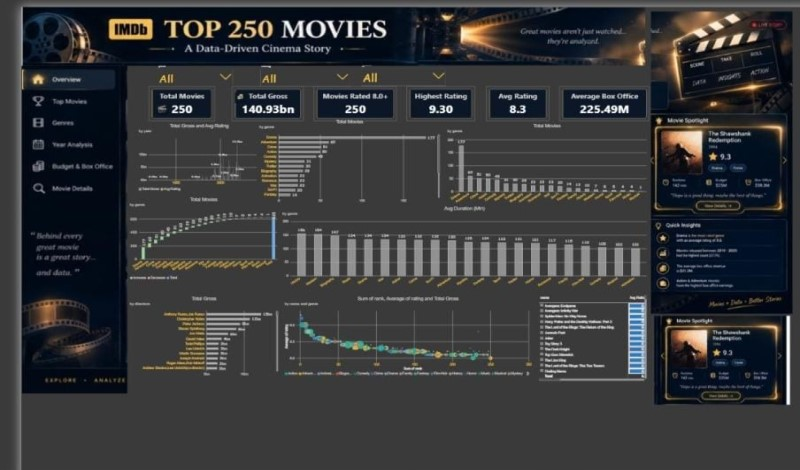

What the dashboard file says about the page in this screenshot:
{"tool":"powerbi","page":{"name":"Cinema Overview","canvas":[3100,3000],"ordinal":0},"visuals":[{"type":"cardVisual","fields":{"Data":["IMDB Top 250 Movies.Total Movies"]},"box":[503,347.9,309.8,151.2],"z":0},{"type":"cardVisual","fields":{"Data":["IMDB Top 250 Movies.Total Gross"]},"box":[843.7,349.5,334.1,151.2],"z":1000},{"type":"cardVisual","fields":{"Data":["IMDB Top 250 Movies.Avg Rating"]},"box":[1890,349.5,297.6,151.2],"z":2000},{"type":"cardVisual","fields":{"Data":["IMDB Top 250 Movies.% High Rated"]},"box":[1563.2,349.5,319.5,151.2],"z":3000},{"type":"clusteredColumnChart","fields":{"Category":["IMDB Top 250 Movies.year"],"Y":["IMDB Top 250 Movies.Total Gross","IMDB Top 250 Movies.Avg Rating"]},"box":[482.7,513.8,497.6,302.4],"z":4000},{"type":"clusteredBarChart","fields":{"Category":["IMDB Top 250 Movies.directors"],"Y":["IMDB Top 250 Movies.Total Gross"]},"box":[443.7,1272.3,609.8,356.1],"z":5000},{"type":"waterfallChart","fields":{"Category":["IMDB Top 250 Movies.genre"],"Y":["IMDB Top 250 Movies.Total Movies"]},"box":[443.7,838.1,607.3,370.7],"z":6000},{"type":"slicer","fields":{"Values":["IMDB Top 250 Movies.year"]},"box":[552.6,251.3,319.2,92.3],"z":7000},{"type":"slicer","fields":{"Values":["IMDB Top 250 Movies.genre"]},"box":[1391,247.4,357.7,107.7],"z":8000},{"type":"slicer","fields":{"Values":["IMDB Top 250 Movies.rating"]},"box":[975.6,251.3,376.9,107.7],"z":9000},{"type":"actionButton","box":[2309.8,109.8,143.9,122],"z":10000},{"type":"clusteredColumnChart","fields":{"Category":["IMDB Top 250 Movies.genre"],"Y":["IMDB Top 250 Movies.Total Movies"]},"box":[1750,511.5,819.2,365.4],"z":11000},{"type":"cardVisual","fields":{"Data":["IMDB Top 250 Movies.High Rated Movies"]},"box":[1182.7,349.5,380.5,151.2],"z":12000},{"type":"cardVisual","fields":{"Data":["IMDB Top 250 Movies.Average Box Office"]},"box":[2192.4,349.5,409.8,151.2],"z":13000},{"type":"clusteredBarChart","fields":{"Category":["IMDB Top 250 Movies.genre"],"Y":["IMDB Top 250 Movies.Total Movies"]},"box":[979.5,497.4,742.3,369.2],"z":14000},{"type":"image","box":[1629.3,0,936.6,258.5],"z":15000},{"type":"image","box":[0,0,1629.3,258.5],"z":16000},{"type":"image","box":[553.4,431.6,51.2,41.5],"z":17000},{"type":"image","box":[879.4,374.7,43.9,51.2],"z":18000},{"type":"image","box":[0,257.7,438.5,1442.3],"z":19000},{"type":"clusteredColumnChart","fields":{"Category":["IMDB Top 250 Movies.genre"],"Y":["IMDB Top 250 Movies.Avg Duration (Min)"]},"box":[1073.1,876.9,1496.2,373.1],"z":20000},{"type":"scatterChart","fields":{"Category":["IMDB Top 250 Movies.name"],"Series":["IMDB Top 250 Movies.genre"],"Size":["IMDB Top 250 Movies.Total Gross"],"X":["Sum(IMDB Top 250 Movies.rank)"],"Y":["Avg(IMDB Top 250 Movies.rating)"]},"box":[1080.2,1272.3,1014.6,356.1],"z":21000},{"type":"pivotTable","fields":{"Rows":["IMDB Top 250 Movies.name","IMDB Top 250 Movies.directors","IMDB Top 250 Movies.year"],"Values":["IMDB Top 250 Movies.Avg Rating","IMDB Top 250 Movies.Total Gross","IMDB Top 250 Movies.Avg Duration (Min)"]},"box":[2126.9,1269.2,442.3,376.9],"z":22000},{"type":"image","box":[2569.2,0,623.1,1357.7],"z":23000},{"type":"image","box":[2569.2,1357.7,623.1,392.3],"z":24000}]}

Visuals, with their boxes on the page's 3100x3000 design canvas (x1, y1, x2, y2). These are canvas units, not pixel positions in the 800x470 screenshot, which may show the page scaled, cropped or inside an application window:
cardVisual - IMDB Top 250 Movies.Total Movies: l=503, t=348, r=813, b=499
cardVisual - IMDB Top 250 Movies.Total Gross: l=844, t=350, r=1178, b=501
cardVisual - IMDB Top 250 Movies.Avg Rating: l=1890, t=350, r=2188, b=501
cardVisual - IMDB Top 250 Movies.% High Rated: l=1563, t=350, r=1883, b=501
clusteredColumnChart - IMDB Top 250 Movies.year x IMDB Top 250 Movies.Total Gross: l=483, t=514, r=980, b=816
clusteredBarChart - IMDB Top 250 Movies.directors x IMDB Top 250 Movies.Total Gross: l=444, t=1272, r=1054, b=1628
waterfallChart - IMDB Top 250 Movies.genre x IMDB Top 250 Movies.Total Movies: l=444, t=838, r=1051, b=1209
slicer - IMDB Top 250 Movies.year: l=553, t=251, r=872, b=344
slicer - IMDB Top 250 Movies.genre: l=1391, t=247, r=1749, b=355
slicer - IMDB Top 250 Movies.rating: l=976, t=251, r=1352, b=359
actionButton: l=2310, t=110, r=2454, b=232
clusteredColumnChart - IMDB Top 250 Movies.genre x IMDB Top 250 Movies.Total Movies: l=1750, t=512, r=2569, b=877
cardVisual - IMDB Top 250 Movies.High Rated Movies: l=1183, t=350, r=1563, b=501
cardVisual - IMDB Top 250 Movies.Average Box Office: l=2192, t=350, r=2602, b=501
clusteredBarChart - IMDB Top 250 Movies.genre x IMDB Top 250 Movies.Total Movies: l=980, t=497, r=1722, b=867
image: l=1629, t=0, r=2566, b=258
image: l=0, t=0, r=1629, b=258
image: l=553, t=432, r=605, b=473
image: l=879, t=375, r=923, b=426
image: l=0, t=258, r=438, b=1700
clusteredColumnChart - IMDB Top 250 Movies.genre x IMDB Top 250 Movies.Avg Duration (Min): l=1073, t=877, r=2569, b=1250
scatterChart - IMDB Top 250 Movies.name x IMDB Top 250 Movies.genre: l=1080, t=1272, r=2095, b=1628
pivotTable - IMDB Top 250 Movies.name x IMDB Top 250 Movies.directors: l=2127, t=1269, r=2569, b=1646
image: l=2569, t=0, r=3192, b=1358
image: l=2569, t=1358, r=3192, b=1750
